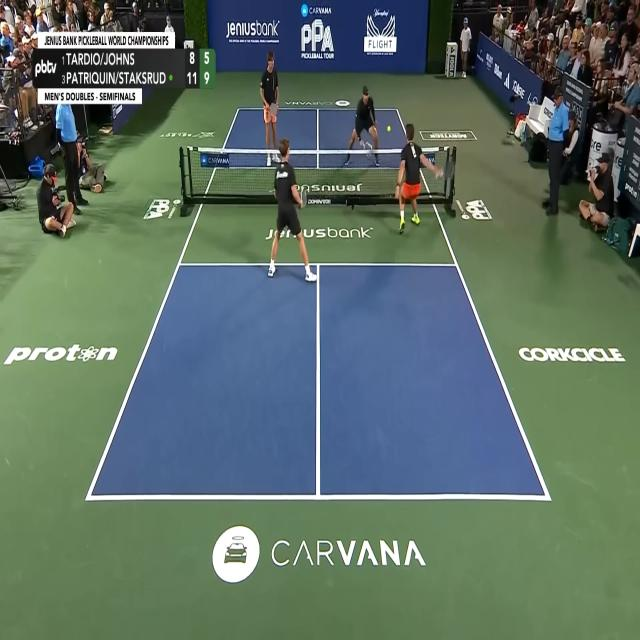ball: (386, 124, 391, 132)
